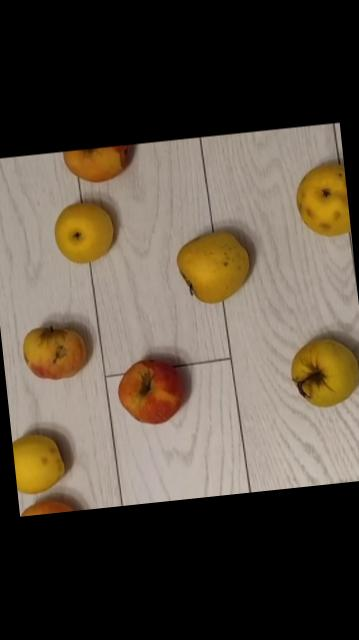apple_green: (172, 228, 250, 306), (287, 334, 359, 409), (50, 198, 116, 266), (293, 164, 351, 239), (12, 432, 66, 497)
apple_red: (114, 356, 187, 428), (19, 322, 87, 383), (61, 146, 132, 187), (18, 497, 76, 517)
